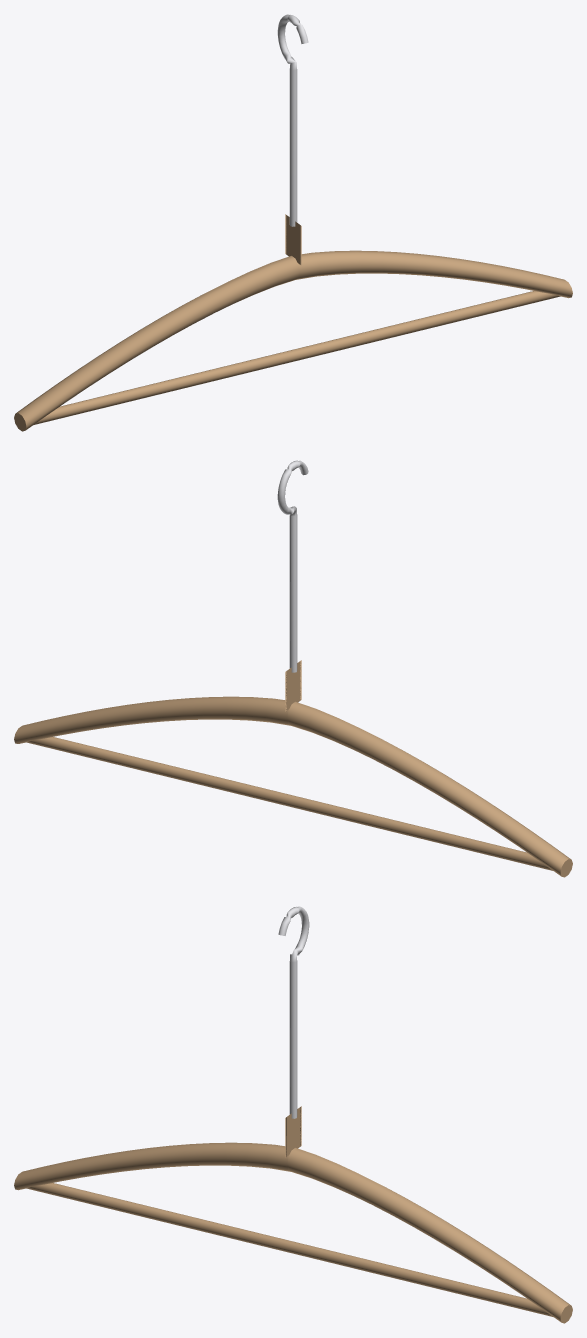
The model's file is hanger_tall.glb.
The picture shows the model from 3 angles, top to bottom: view 1: azimuth 30°, elevation 25°; view 2: azimuth 150°, elevation 25°; view 3: azimuth 330°, elevation 25°; orthographic projection.
Parts seen in each view (by area): view 1: hanger_tall; view 2: hanger_tall; view 3: hanger_tall.
Boxes of the visible parts, x1,y1,x2,y2 form: hanger_tall: (14, 14, 572, 431); hanger_tall: (14, 460, 572, 877); hanger_tall: (14, 906, 572, 1323).
Bounding box in the file's own units: 0.43 × 0.261 × 0.037.
